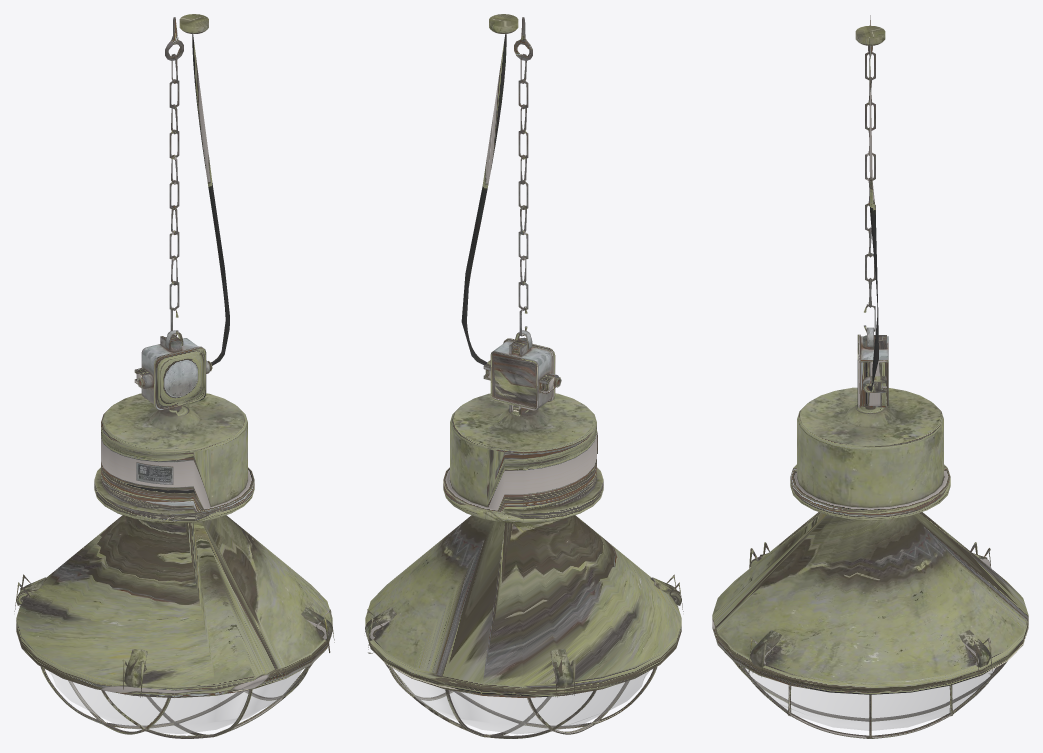
File: hanging_industrial_lamp.glb
3 renders of one model, left to right at view 1: azimuth 30°, elevation 25°; view 2: azimuth 150°, elevation 25°; view 3: azimuth 270°, elevation 25°, orthographic.
Visible parts, largest first — view 1: hanging_industrial_lamp; view 2: hanging_industrial_lamp; view 3: hanging_industrial_lamp.
Part boxes in pixels (x1,y1,x2,y2): hanging_industrial_lamp: [14, 14, 334, 738]; hanging_industrial_lamp: [365, 14, 683, 738]; hanging_industrial_lamp: [712, 15, 1028, 738].
Bounding box in the file's own units: 0.5497 × 1.36 × 0.5497.
2 materials, 1 textured.
